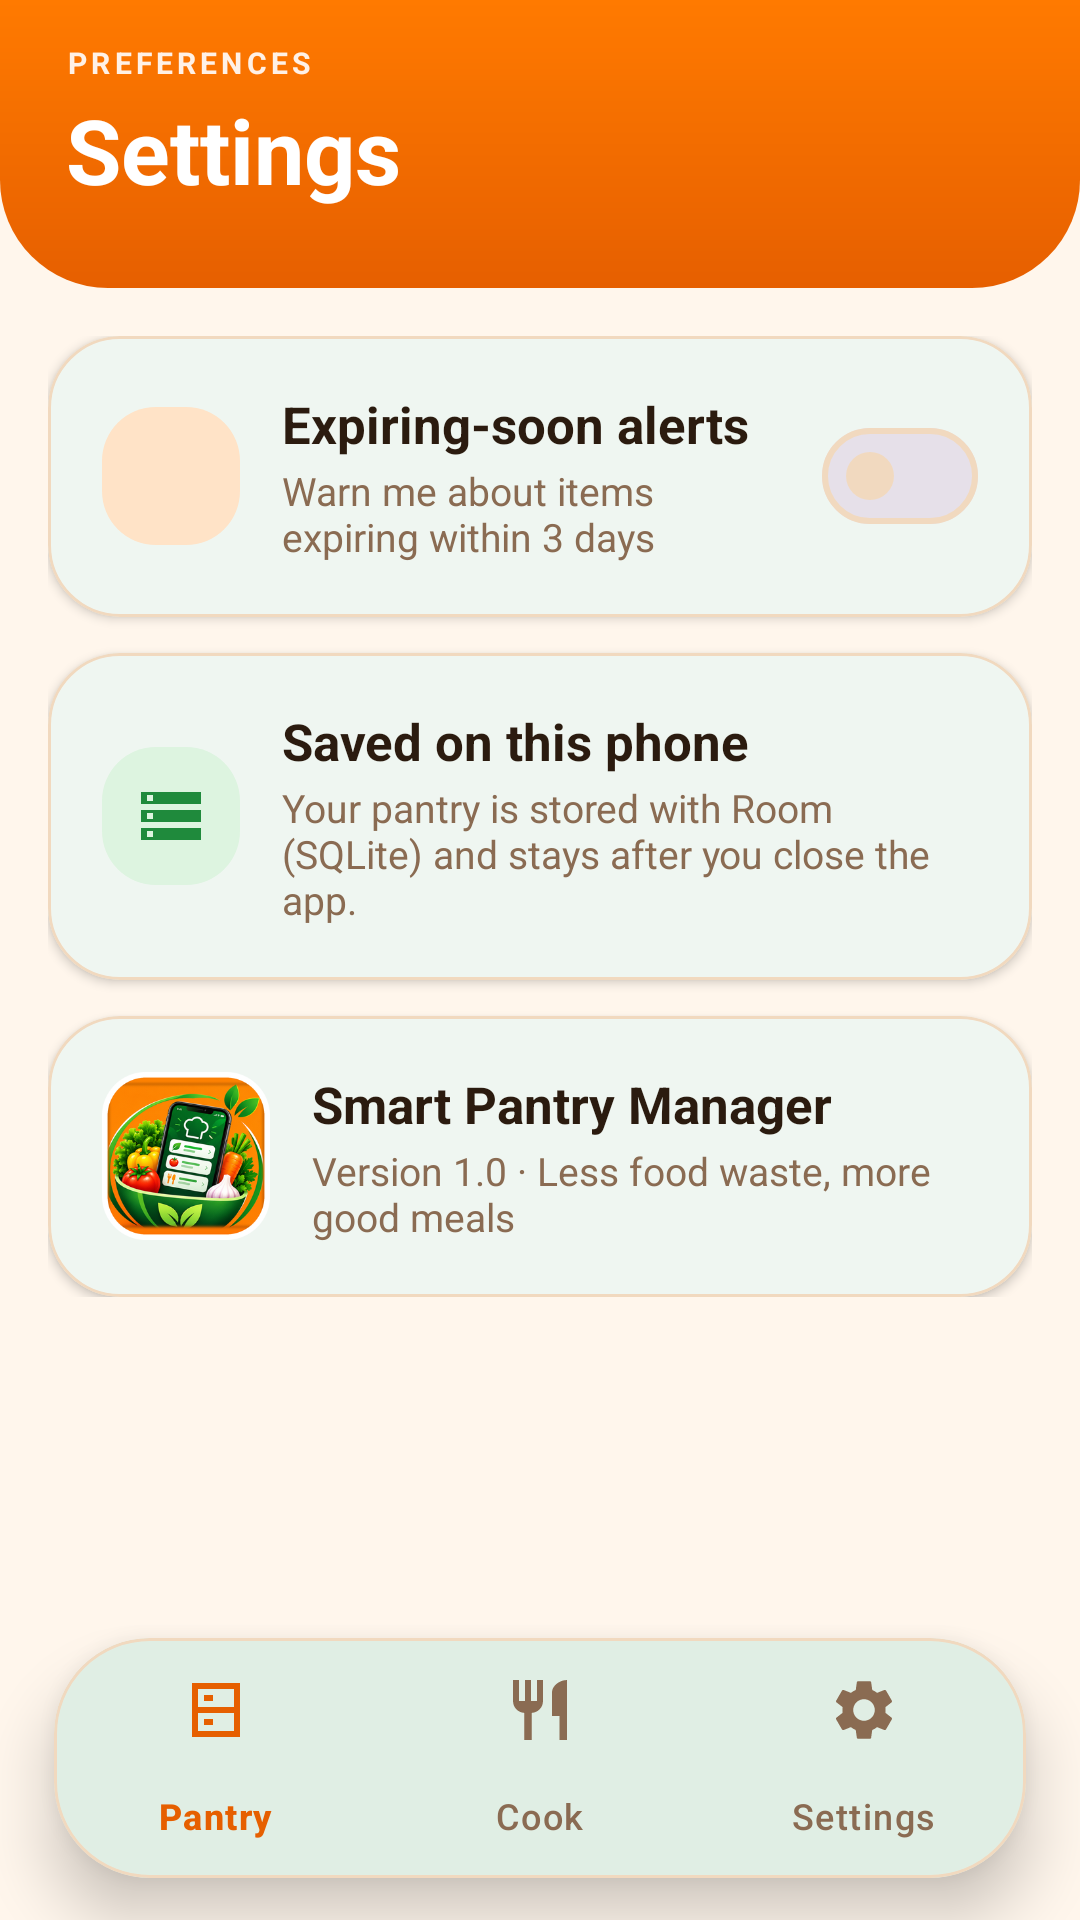

Point at icon controls on the screen. Image size 1080*1920, points as (x,y).
storage: (171,816)
